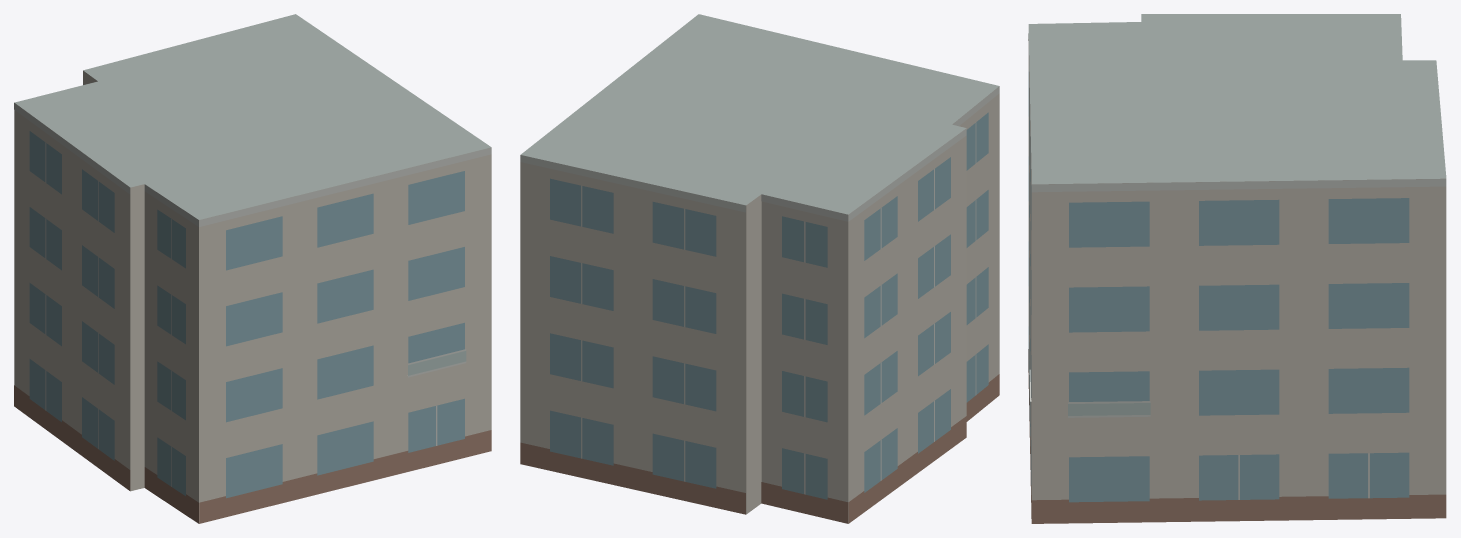
The model's file is survey-upis-32621878.glb.
The picture shows the model from 3 angles, left to right: view 1: azimuth 30°, elevation 25°; view 2: azimuth 150°, elevation 25°; view 3: azimuth 270°, elevation 25°; orthographic projection. The views are drawn at different scales.
Parts seen in each view (by area): view 1: survey-upis-32621878.tmp; view 2: survey-upis-32621878.tmp; view 3: survey-upis-32621878.tmp.
Boxes of the visible parts, box(x1,y1,x2,y2) form: survey-upis-32621878.tmp: box(14, 14, 491, 523); survey-upis-32621878.tmp: box(520, 14, 999, 523); survey-upis-32621878.tmp: box(1028, 14, 1446, 523).
Bounding box in the file's own units: 11.31 × 10.5 × 11.73.
